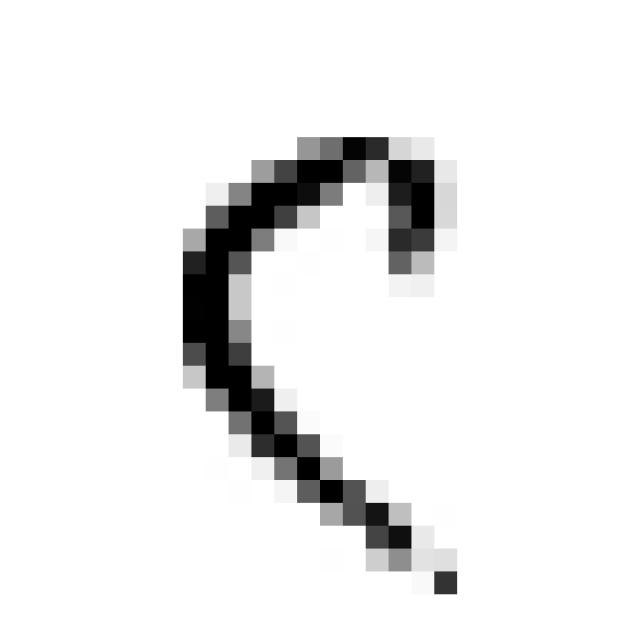2 -two-: (158, 114, 487, 618)
